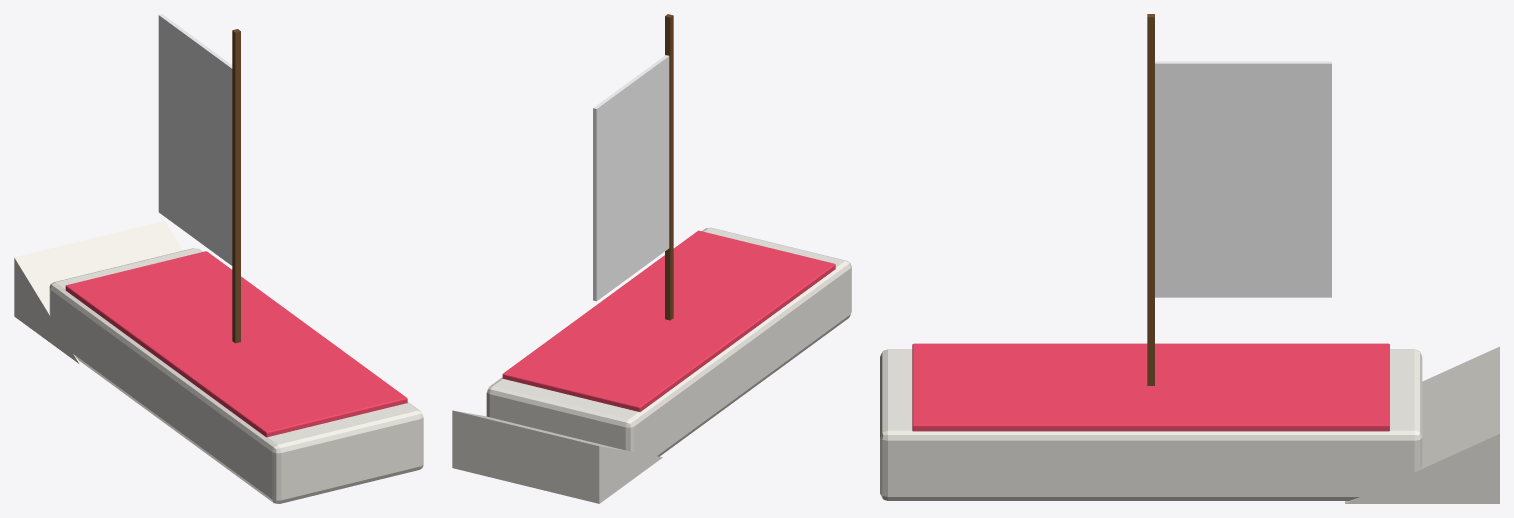
The model's file is Surfing_Boat.fbx.
3 renders of one model, left to right at view 1: azimuth 30°, elevation 25°; view 2: azimuth 150°, elevation 25°; view 3: azimuth 270°, elevation 25°, orthographic. The views are drawn at different scales.
Parts seen in each view (by area): view 1: Boat; view 2: Boat; view 3: Boat.
Boxes of the visible parts, bbox=[...] form: Boat: bbox=[14, 14, 423, 503]; Boat: bbox=[452, 14, 851, 503]; Boat: bbox=[880, 14, 1499, 503].
Bounding box in the file's own units: 1.6 × 3.8 × 4.8.
